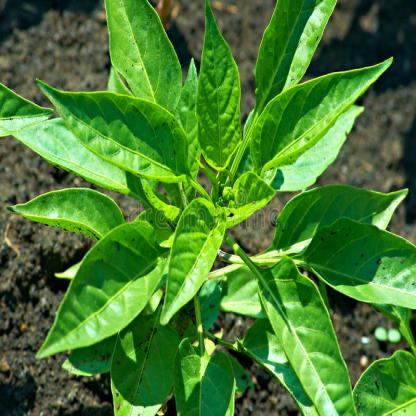bell pepper leaf: (23, 215, 171, 358), (31, 71, 193, 194), (249, 56, 395, 188), (254, 263, 363, 415), (272, 177, 410, 268), (101, 1, 185, 118), (252, 1, 340, 109), (161, 195, 226, 330), (193, 1, 243, 168), (112, 312, 181, 415), (172, 334, 236, 415)
